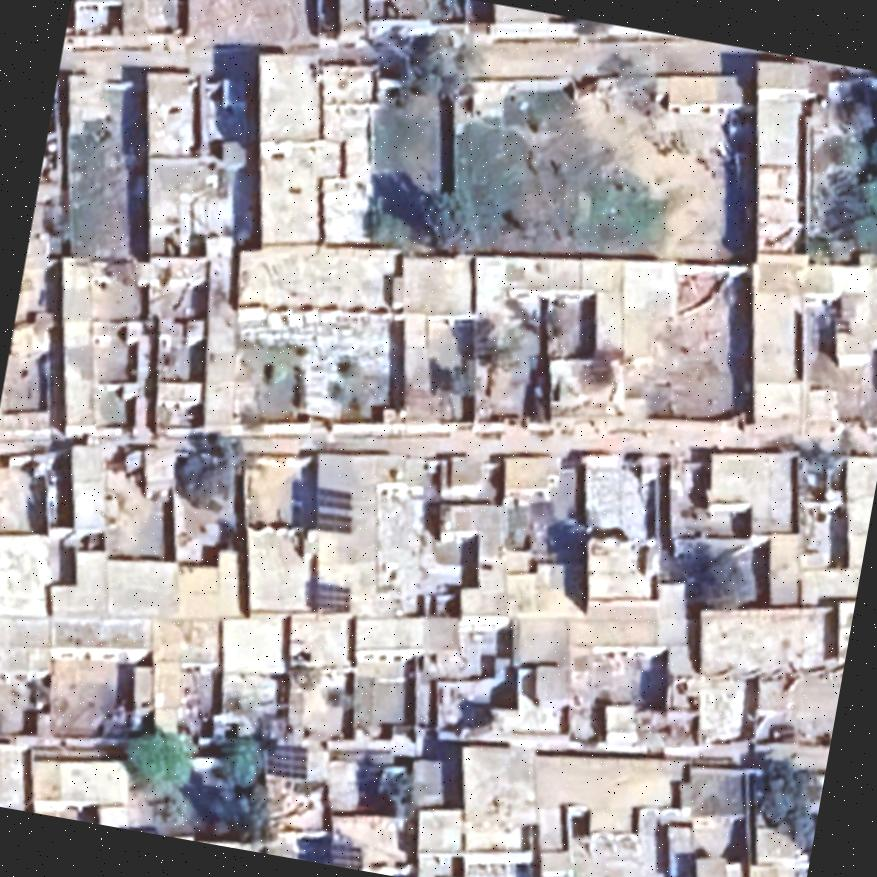Solarpanel: (302, 480, 362, 540), (257, 736, 316, 788), (304, 575, 358, 620), (320, 836, 368, 870)
